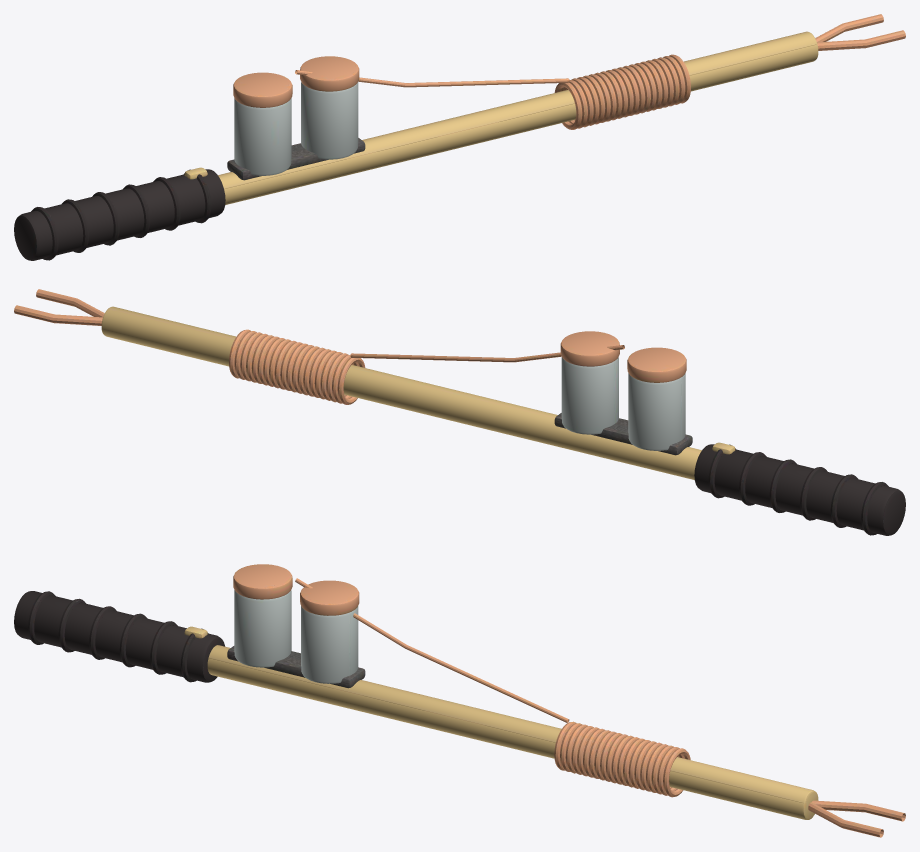
Rendered from prod.glb.
The picture shows the model from 3 angles, top to bottom: view 1: azimuth 30°, elevation 25°; view 2: azimuth 150°, elevation 25°; view 3: azimuth 330°, elevation 25°; orthographic projection.
Parts seen in each view (by area): view 1: rod, grip, jar0, jar1, jar_cap0, jar_cap1, wire, cradle, prong-1, prong1; view 2: rod, grip, jar0, jar1, jar_cap0, jar_cap1, wire, cradle, prong1, prong-1; view 3: rod, grip, jar0, jar1, jar_cap0, jar_cap1, wire, cradle, prong1, prong-1.
Part boxes in pixels (x1=…): rod: x1=218, y1=31, x2=818, y2=204; grip: x1=14, y1=169, x2=225, y2=260; jar0: x1=234, y1=98, x2=291, y2=175; jar1: x1=301, y1=82, x2=358, y2=159; jar_cap0: x1=233, y1=72, x2=292, y2=107; jar_cap1: x1=300, y1=56, x2=359, y2=91; wire: x1=295, y1=70, x2=569, y2=87; cradle: x1=227, y1=138, x2=365, y2=180; prong-1: x1=817, y1=30, x2=905, y2=50; prong1: x1=815, y1=14, x2=883, y2=42; rod: x1=101, y1=306, x2=701, y2=479; grip: x1=694, y1=444, x2=905, y2=535; jar0: x1=628, y1=373, x2=685, y2=450; jar1: x1=561, y1=357, x2=618, y2=434; jar_cap0: x1=627, y1=347, x2=686, y2=382; jar_cap1: x1=560, y1=331, x2=619, y2=366; wire: x1=350, y1=345, x2=624, y2=362; cradle: x1=554, y1=413, x2=692, y2=455; prong1: x1=14, y1=305, x2=102, y2=325; prong-1: x1=36, y1=289, x2=104, y2=317; rod: x1=207, y1=645, x2=818, y2=819; grip: x1=14, y1=591, x2=224, y2=682; jar0: x1=234, y1=590, x2=291, y2=667; jar1: x1=301, y1=606, x2=358, y2=683; jar_cap0: x1=233, y1=564, x2=292, y2=599; jar_cap1: x1=300, y1=580, x2=359, y2=615; wire: x1=295, y1=578, x2=569, y2=722; cradle: x1=227, y1=646, x2=365, y2=688; prong1: x1=812, y1=800, x2=905, y2=821; prong-1: x1=808, y1=802, x2=883, y2=837.
Bounding box in the file's own units: 0.91 × 0.1268 × 0.054.
1 material, 1 textured.
